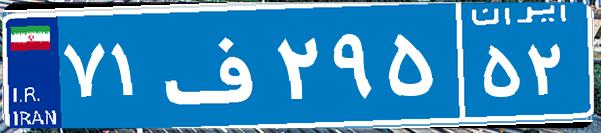1: (110, 28, 158, 105)
2: (273, 28, 330, 110), (525, 38, 570, 115)
5: (385, 28, 445, 110), (475, 38, 525, 113)
7: (57, 26, 110, 107)
9: (330, 28, 385, 110)
ف: (158, 15, 273, 115)
